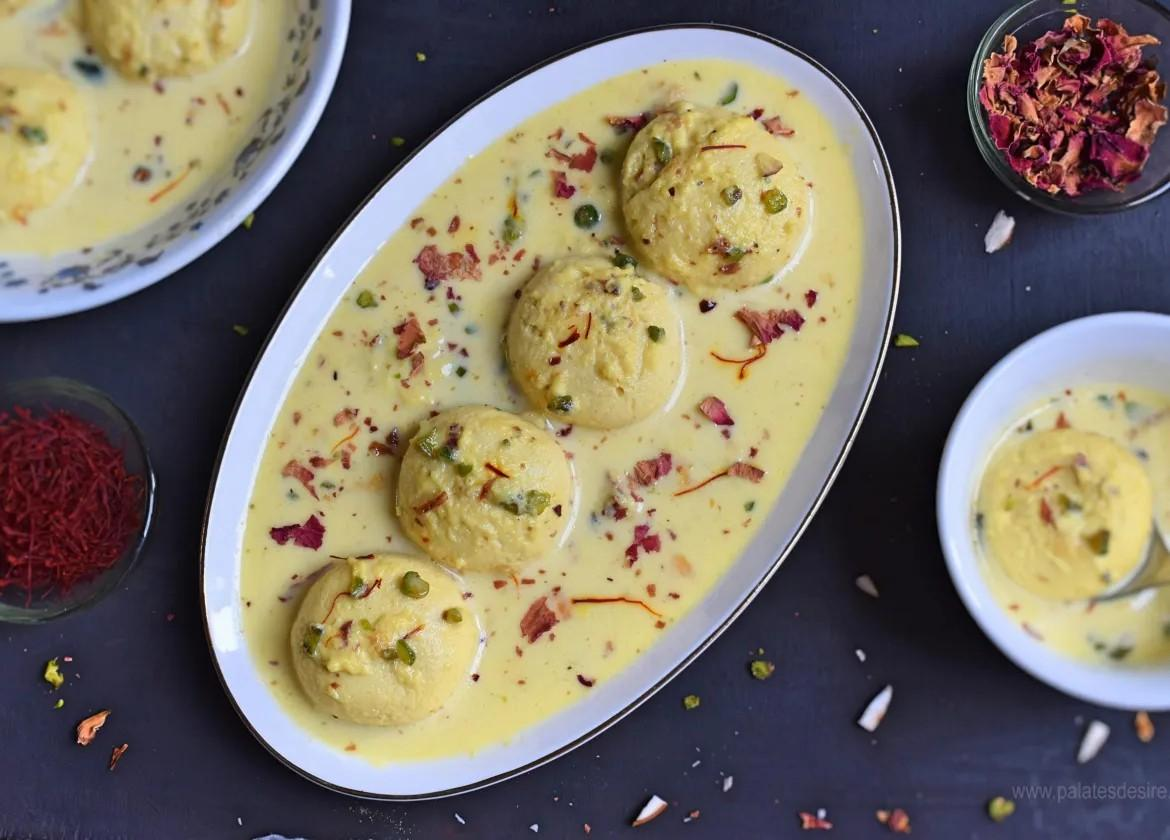RasMalai: (234, 59, 857, 754), (0, 0, 285, 252), (937, 374, 1170, 679)
